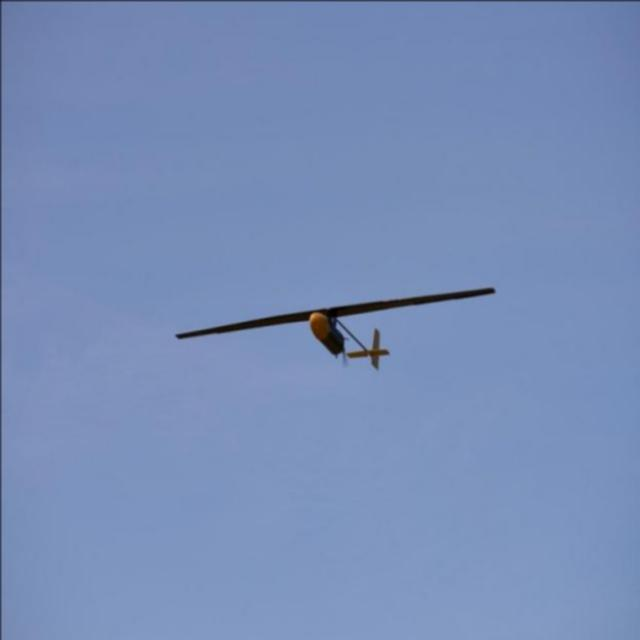plane: (172, 283, 495, 370)
